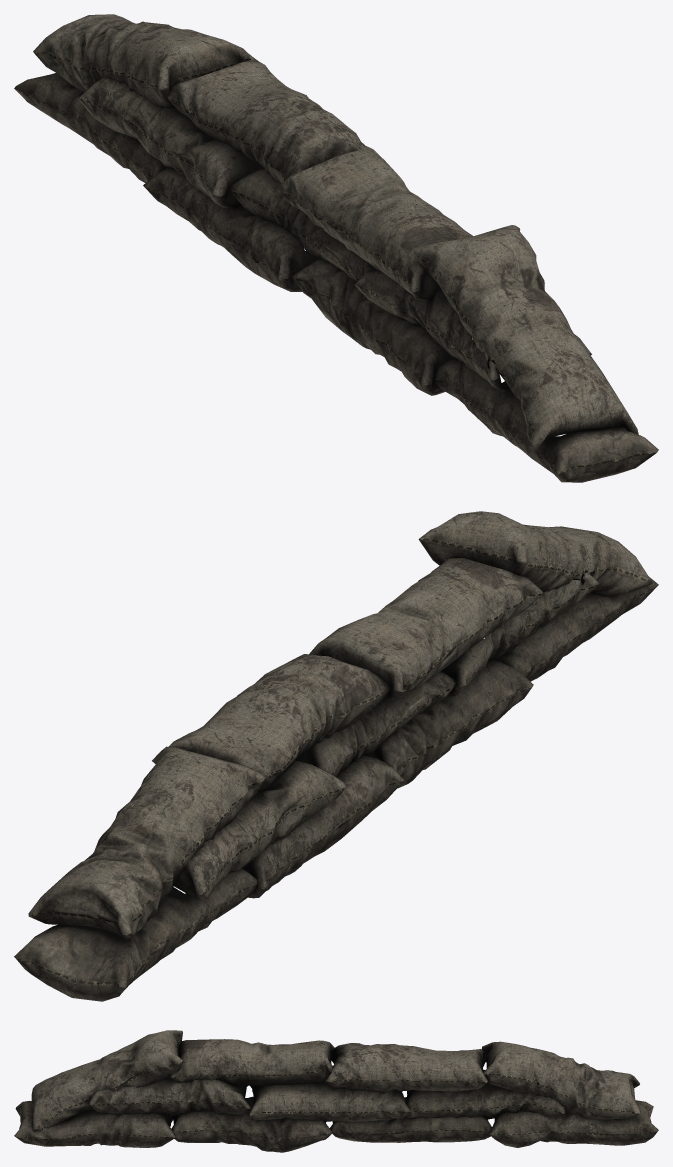
The model's file is SM_SandbagsPile_01.glb.
3 renders of one model, top to bottom at view 1: azimuth 30°, elevation 25°; view 2: azimuth 150°, elevation 25°; view 3: azimuth 270°, elevation 25°, orthographic. The views are drawn at different scales.
Parts seen in each view (by area): view 1: SM_SandbagsPile_01; view 2: SM_SandbagsPile_01; view 3: SM_SandbagsPile_01.
Part boxes in pixels (<box>): SM_SandbagsPile_01: <box>14,14,658,482</box>; SM_SandbagsPile_01: <box>14,511,658,1001</box>; SM_SandbagsPile_01: <box>14,1030,658,1152</box>.
Bounding box in the file's own units: 0.4339 × 0.6338 × 3.31.
1 material, 1 textured.
